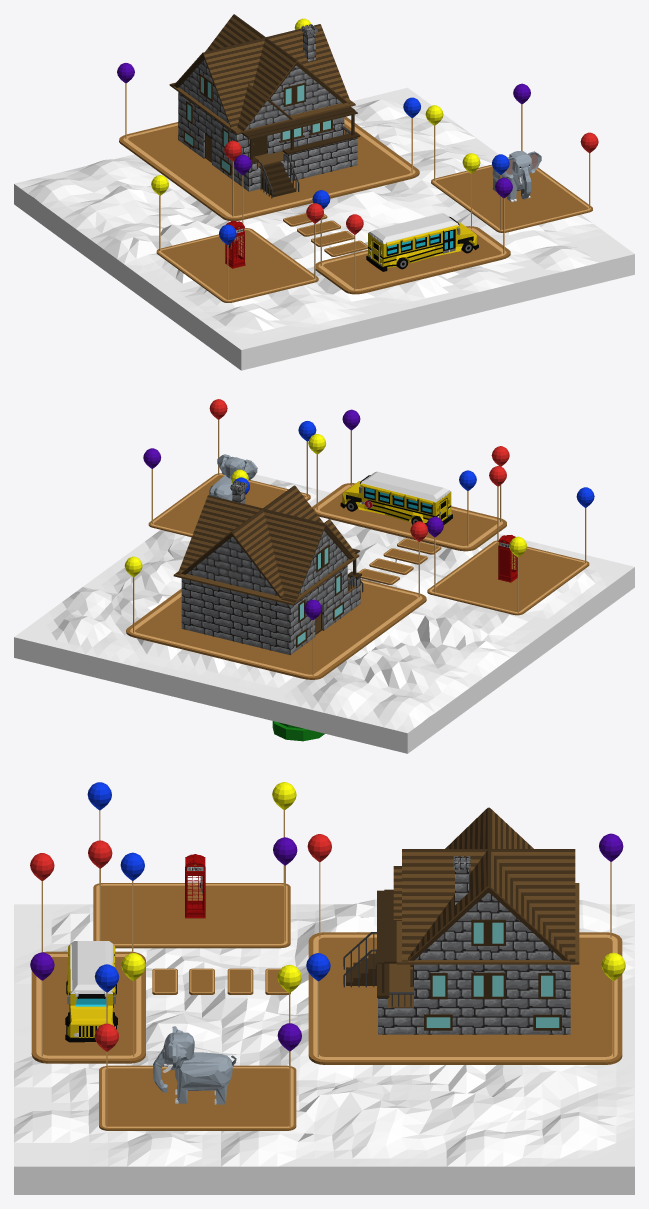
The picture shows the model from 3 angles, top to bottom: view 1: azimuth 30°, elevation 25°; view 2: azimuth 150°, elevation 25°; view 3: azimuth 270°, elevation 25°; orthographic projection. The views are drawn at different scales.
Visible parts, largest first — view 1: Cube.013, Cube.586, VEHICLES_SCHOOL_BUS, ANIMAL_ELEFANTE, OBJRANDOM_PHONEBOOTH; view 2: Cube.013, Cube.586, VEHICLES_SCHOOL_BUS, ANIMAL_ELEFANTE, OBJRANDOM_PHONEBOOTH, UNDERGROUND_PIPES; view 3: Cube.013, Cube.586, VEHICLES_SCHOOL_BUS, ANIMAL_ELEFANTE, OBJRANDOM_PHONEBOOTH.
Boxes of the visible parts, x1,y1,x2,y2 form: Cube.013: (14, 18, 634, 370); Cube.586: (169, 14, 360, 198); VEHICLES_SCHOOL_BUS: (366, 213, 478, 271); ANIMAL_ELEFANTE: (492, 151, 541, 202); OBJRANDOM_PHONEBOOTH: (225, 221, 245, 268); Cube.013: (14, 399, 634, 753); Cube.586: (173, 481, 363, 654); VEHICLES_SCHOOL_BUS: (340, 471, 452, 524); ANIMAL_ELEFANTE: (209, 454, 257, 500); OBJRANDOM_PHONEBOOTH: (498, 535, 517, 582); UNDERGROUND_PIPES: (272, 721, 324, 741); Cube.013: (14, 782, 634, 1194); Cube.586: (343, 807, 579, 1034); VEHICLES_SCHOOL_BUS: (65, 941, 117, 1042); ANIMAL_ELEFANTE: (153, 1026, 236, 1104); OBJRANDOM_PHONEBOOTH: (185, 854, 205, 918).
Size of the model in its own units: 4000 by 2280 by 4000.
Materials: 40 (2 with a texture image).
